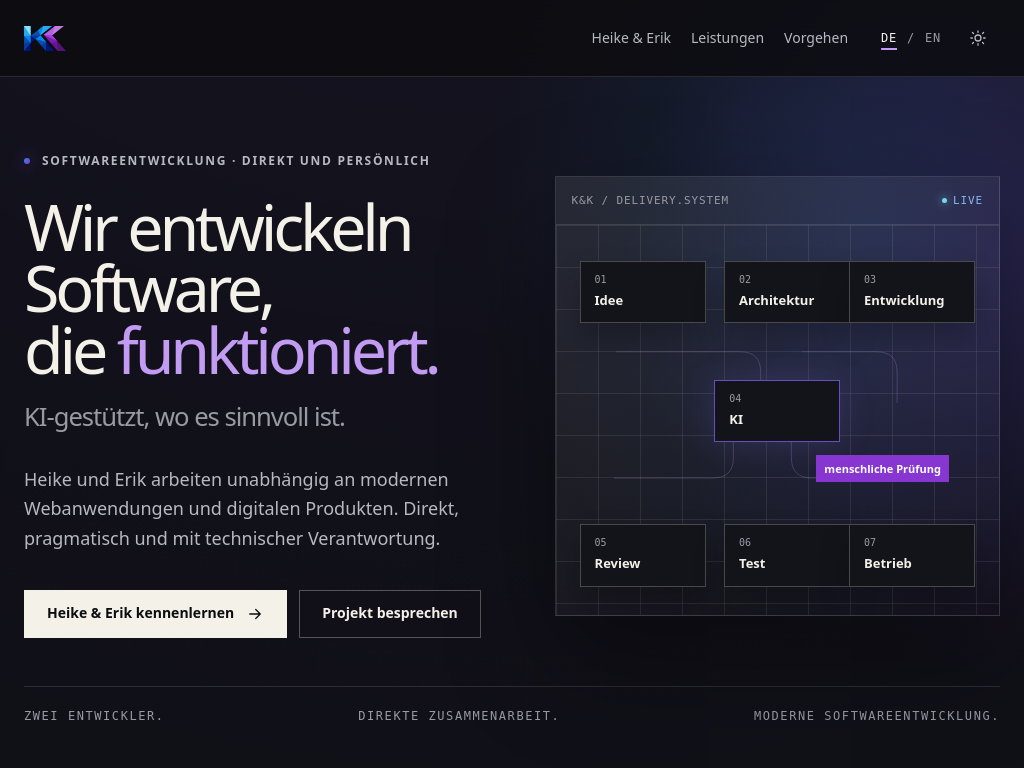
Test case: Theme › Umschalter wechselt das Theme, ist benannt und speichert die Auswahl
Click the button named "Zum hellen Modus wechseln" at (978, 38), box x1=956 y1=16 x2=1000 y2=60
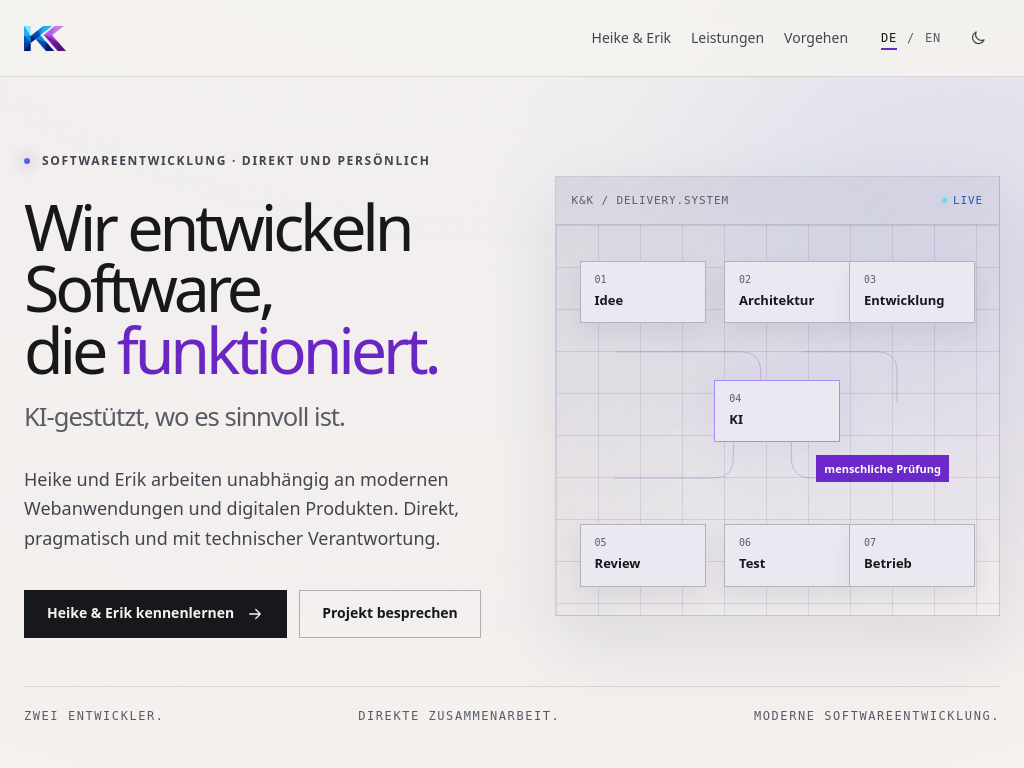
Expected: the button named "Zum dunklen Modus wechseln" is shown, x1=956 y1=16 x2=1000 y2=60
